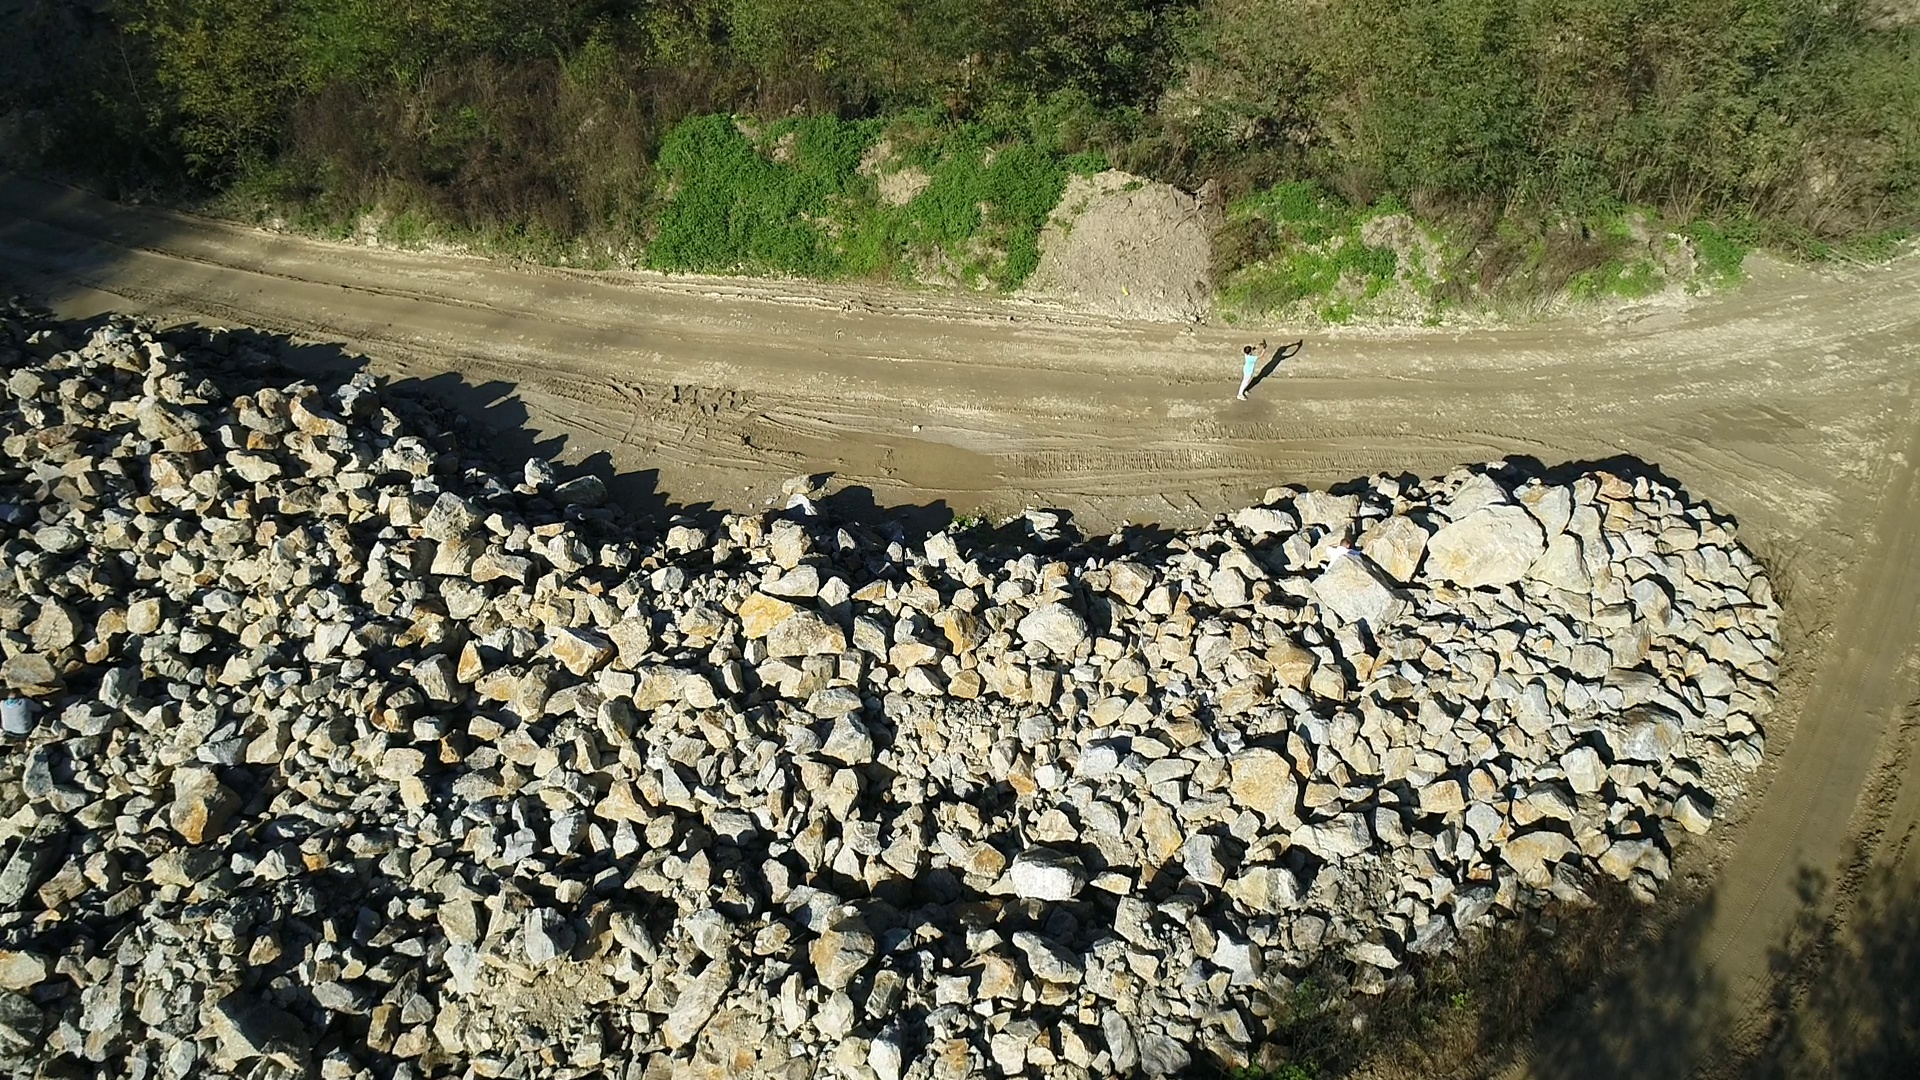not_defined: (1313, 538, 1377, 578)
person: (1236, 338, 1268, 402), (1, 687, 44, 737)
